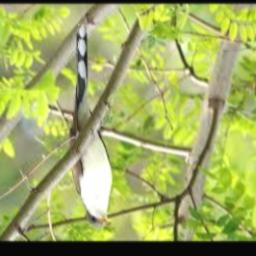Cuckoo: (70, 24, 114, 226)
